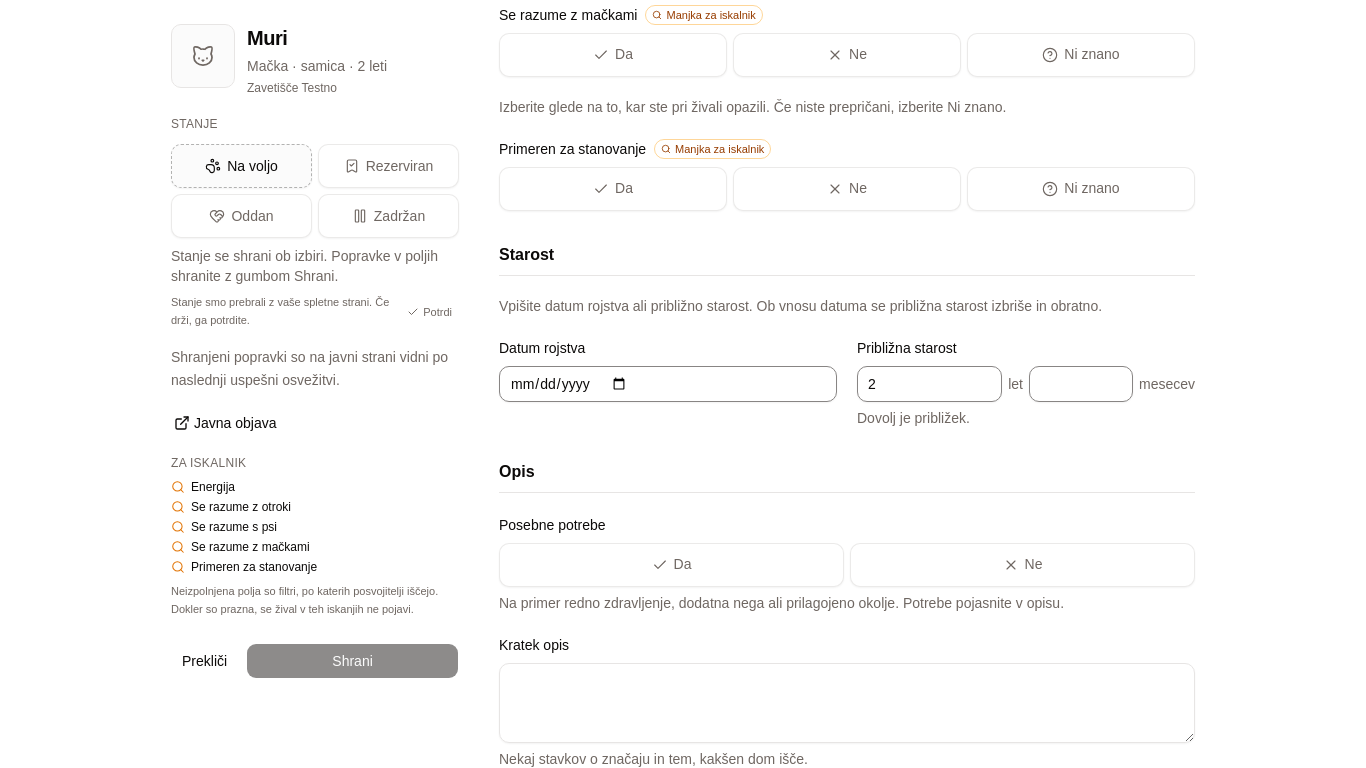
Test: a box the browser could not read › does not save the rest of the age as the whole of it
(page scrolled)
Type "3" into the number field labelled "mesecev".
click(1081, 384); type("3")  # box x1=1029 y1=366 x2=1133 y2=402
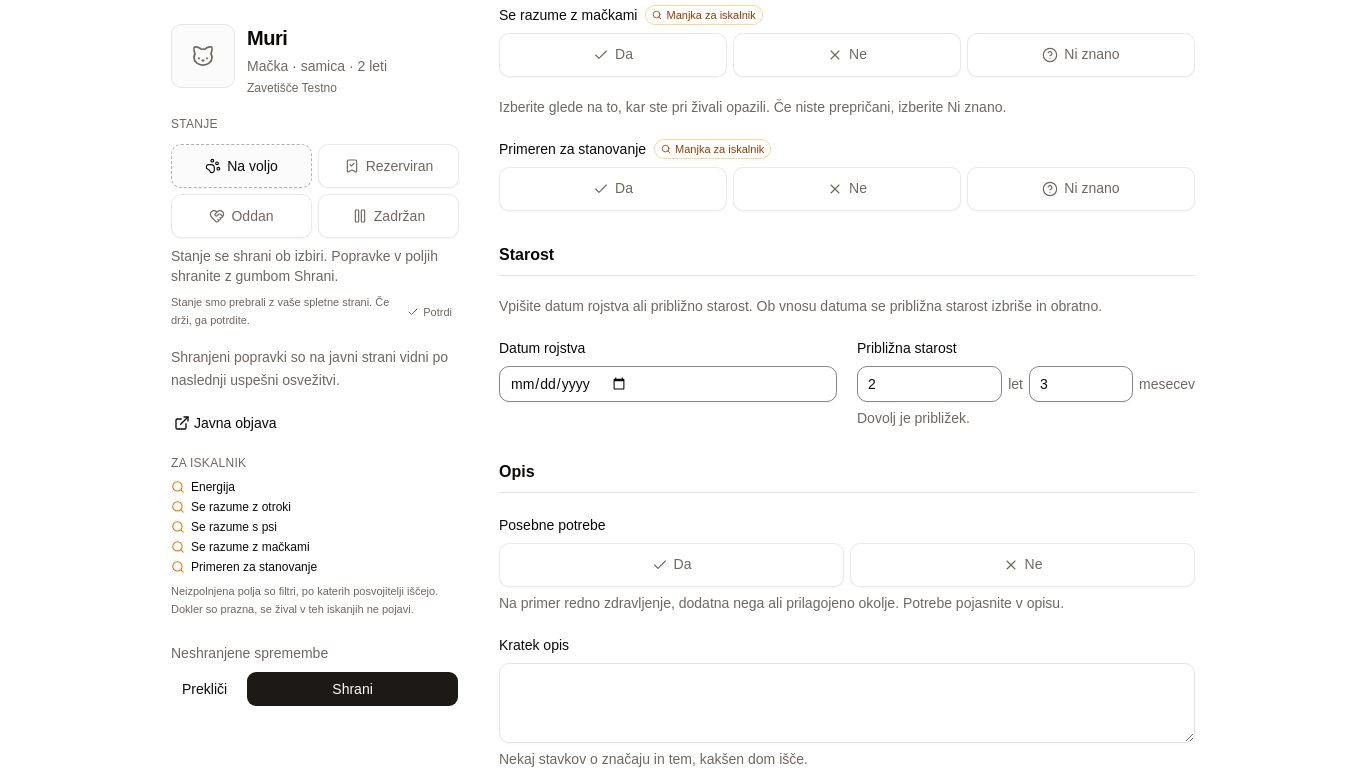
Clear the number field labelled "let" at (930,384), box x1=857 y1=366 x2=1002 y2=402
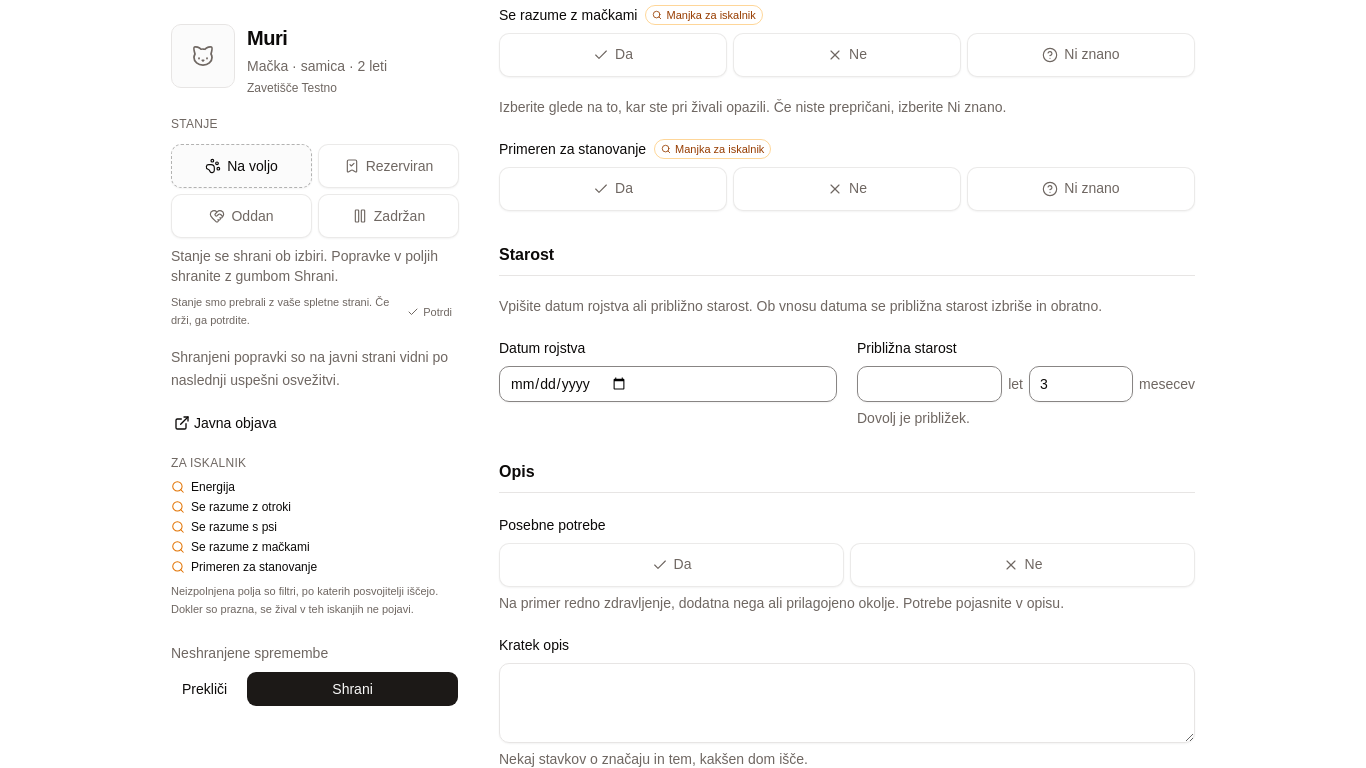
Click the button "Shrani".
click(353, 689)  # box x1=246 y1=671 x2=459 y2=707
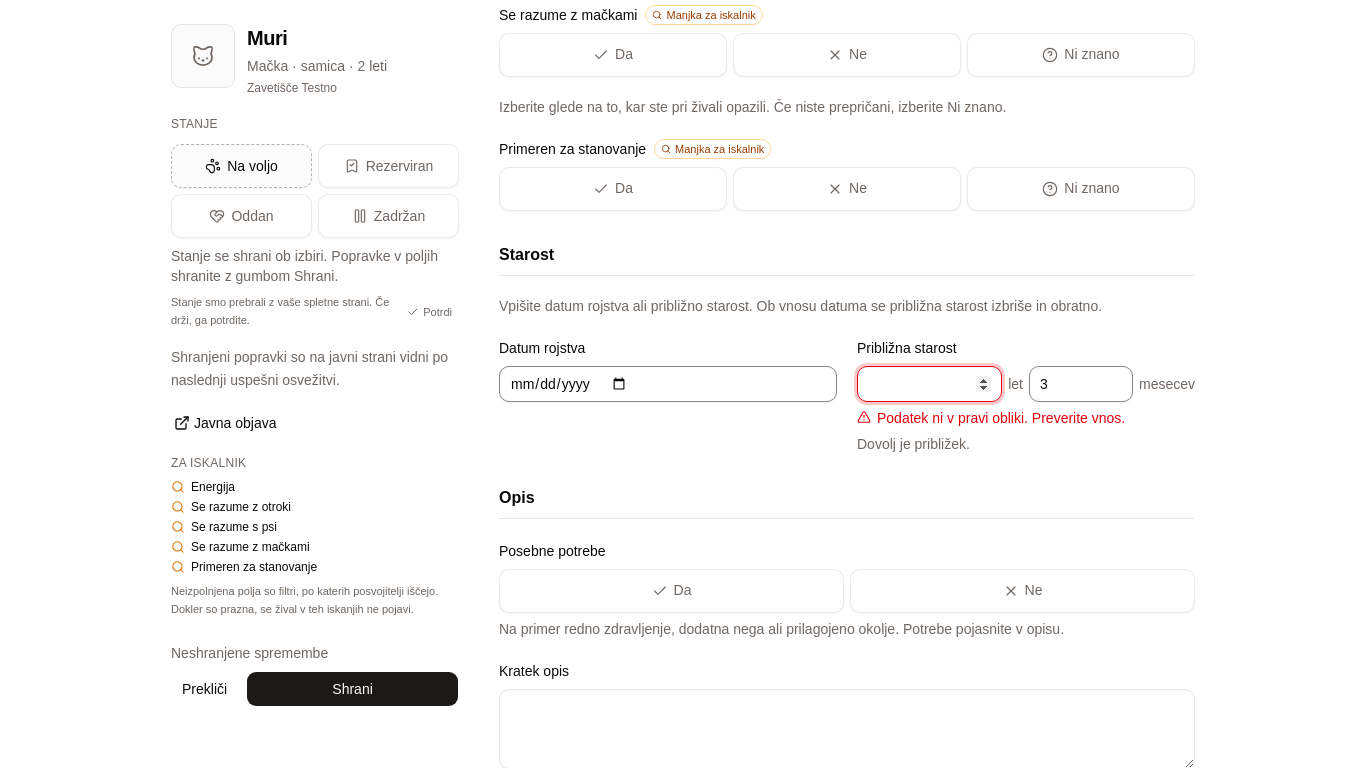
Check: the message "Podatek ni v pravi obliki. Preverite vnos." is shown, box x1=857 y1=410 x2=1125 y2=426
